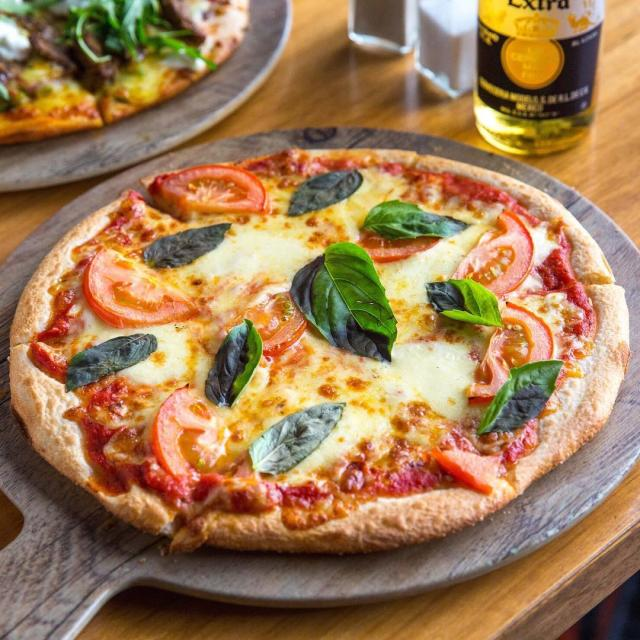basil: (289, 238, 402, 366), (248, 398, 350, 477), (474, 357, 563, 436), (60, 332, 160, 393), (205, 318, 265, 408), (136, 222, 236, 271), (421, 274, 506, 331), (356, 199, 469, 240), (284, 165, 364, 218)
pizza: (0, 143, 640, 558), (0, 0, 249, 144)
tomatoes: (82, 245, 201, 328), (462, 301, 554, 400), (450, 202, 534, 303), (152, 379, 224, 495), (429, 408, 501, 493), (148, 167, 268, 217), (242, 280, 308, 356), (347, 221, 437, 263)
